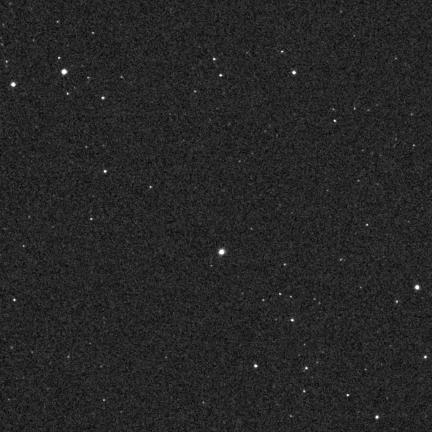blob: (219, 249, 227, 257), (62, 69, 67, 75), (11, 82, 16, 87), (415, 285, 420, 290), (104, 170, 108, 174)
